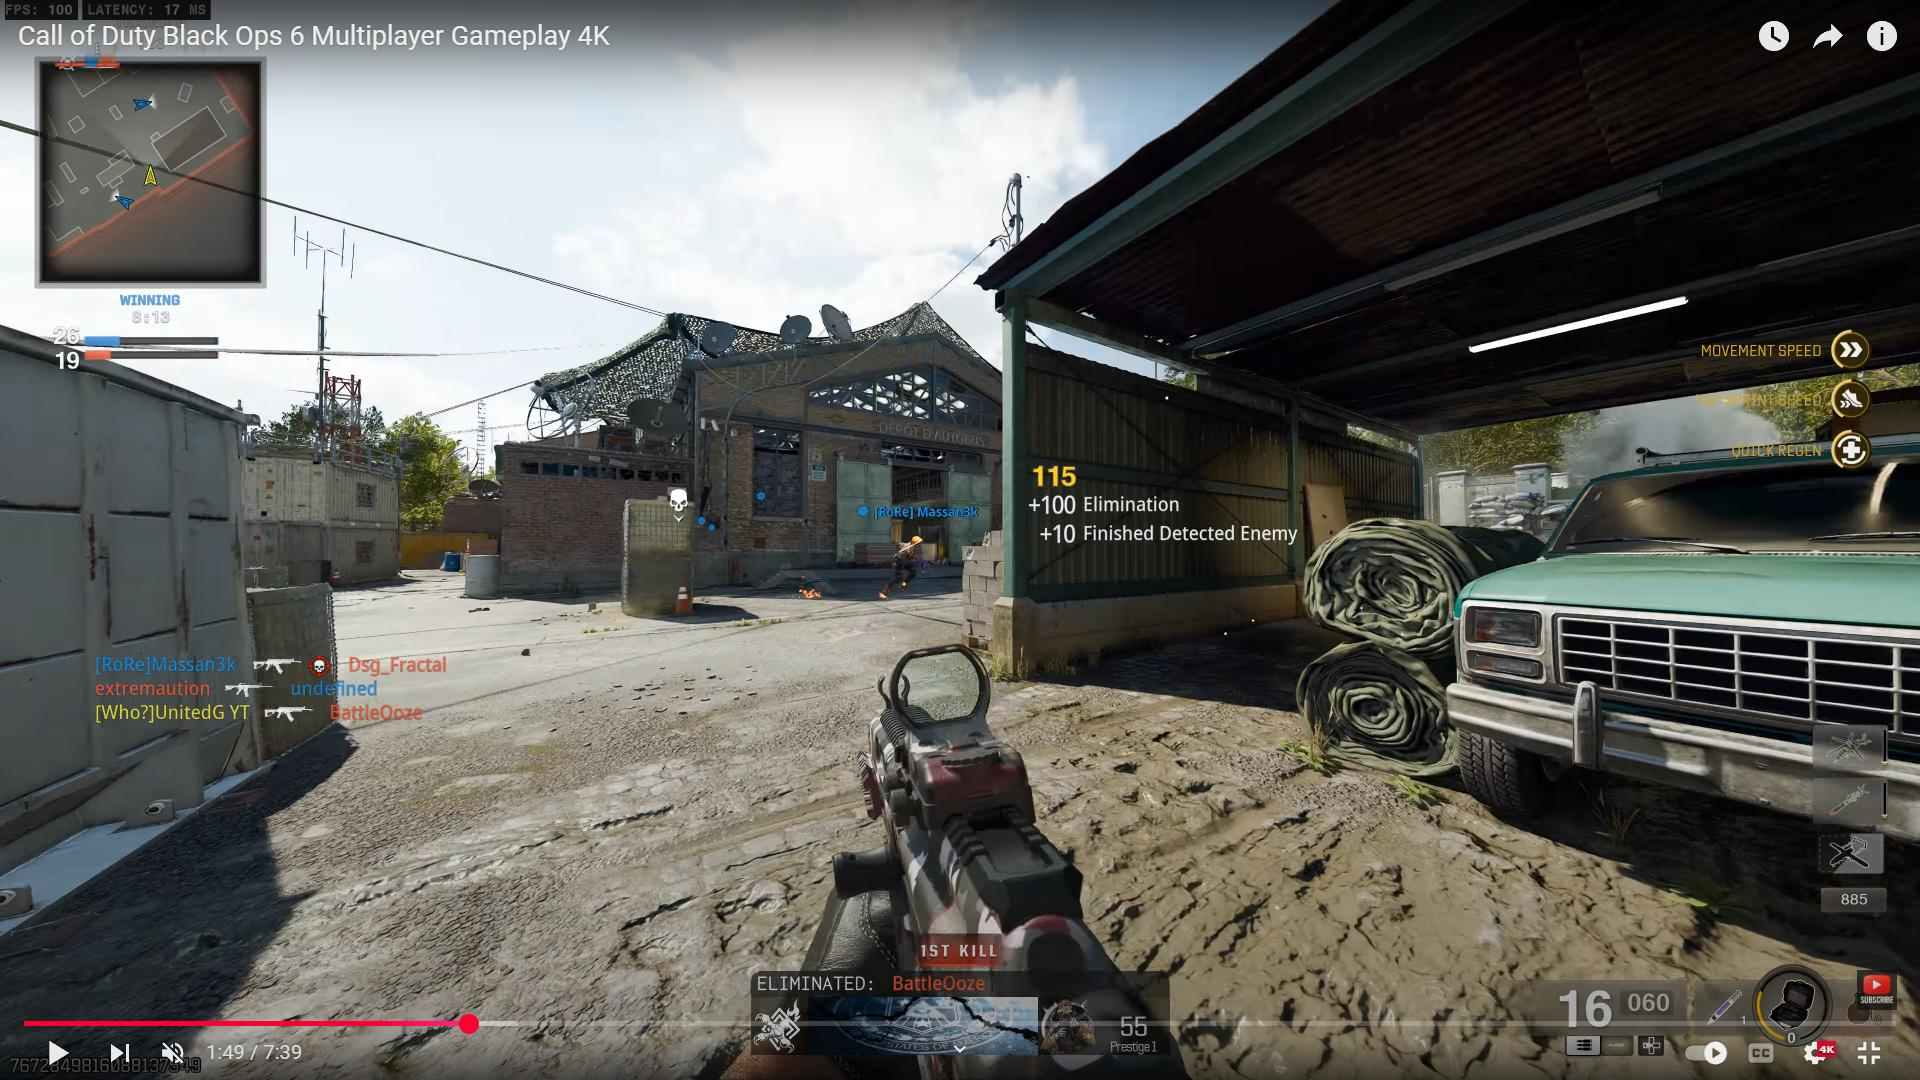Enemy: (881, 527, 927, 597)
